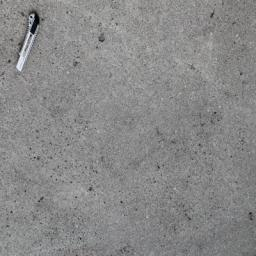FOD: (16, 12, 42, 75)
